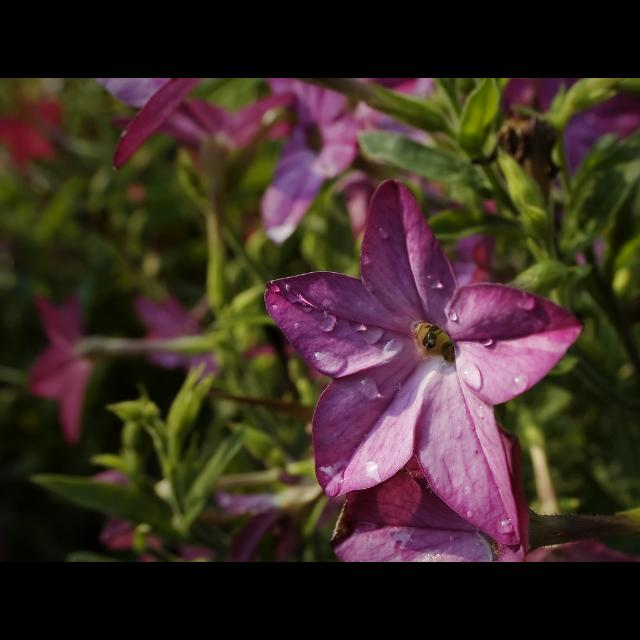Flower: (1, 79, 640, 562)
